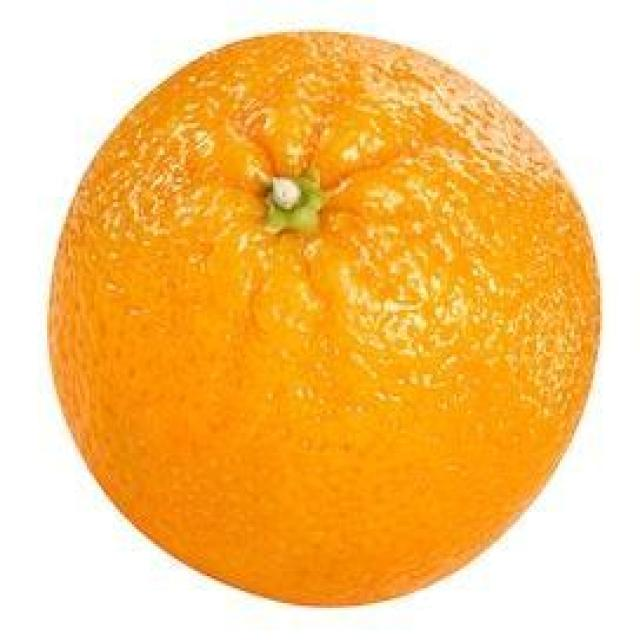orange: (46, 28, 606, 610)
